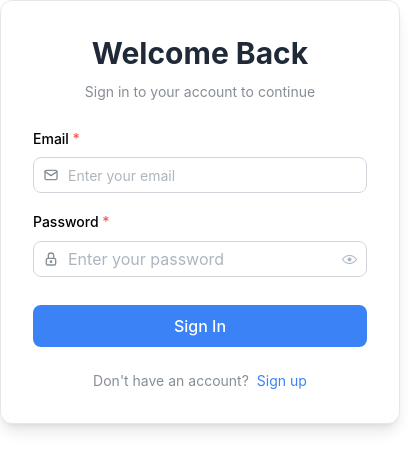
Scenario: LoginForm › should validate password length
Type "test@example.com" into the field labelled "Email *" at {"x": 200, "y": 176}, box [33,158,367,194]
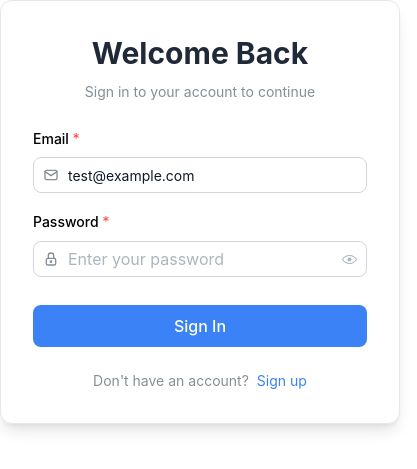
Type "123" into the password field labelled "Password *" at {"x": 200, "y": 259}, box [34,242,366,276]
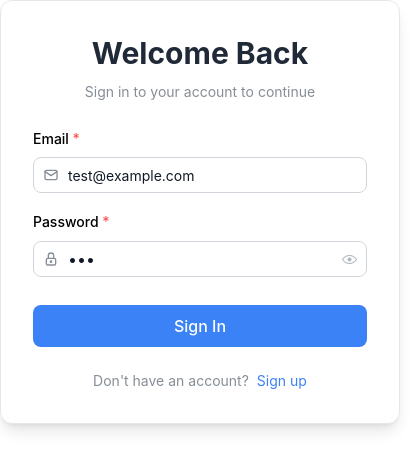
Click the button "Sign In" at {"x": 200, "y": 326}, box [33,305,367,347]
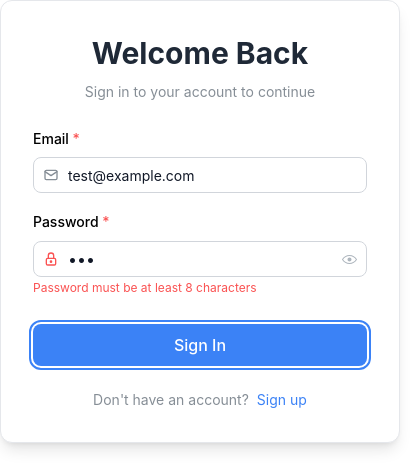
Expected: the text "Password must be at least 8 characters" is shown, [33,280,257,295]
